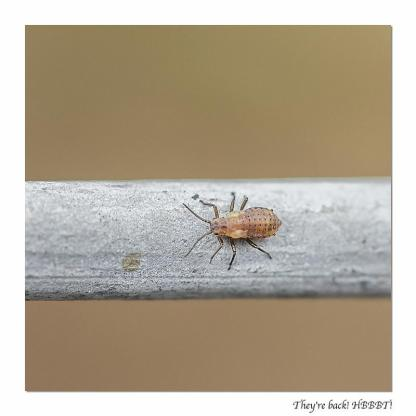aphid: (184, 192, 282, 264)
